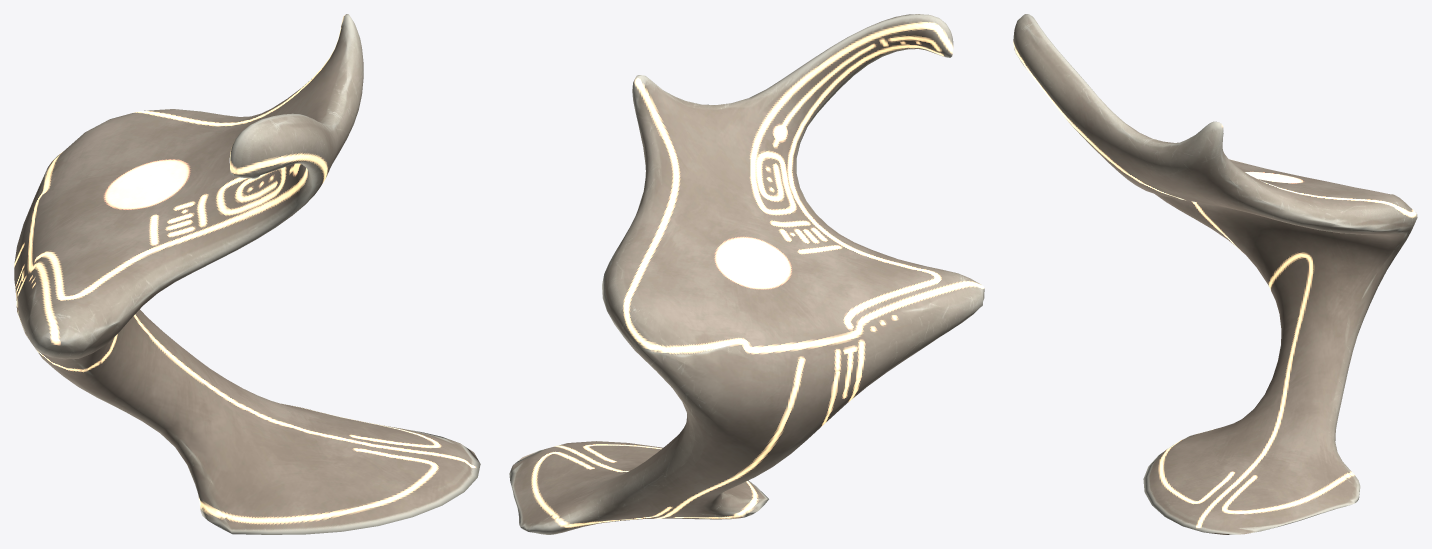
File: lapa2.glb
3 views of the same model, side by side, from view 1: azimuth 30°, elevation 25°; view 2: azimuth 150°, elevation 25°; view 3: azimuth 270°, elevation 25° (orthographic). The views are drawn at different scales.
Visible parts, largest first — view 1: 2; view 2: 2; view 3: 2.
Boxes of the visible parts, left/top/right/bottom form: 2: left=14, top=14, right=480, bottom=534; 2: left=509, top=14, right=984, bottom=534; 2: left=1013, top=14, right=1417, bottom=534.
Size of what is drawn, in the model's own units: 3.57 by 3.56 by 3.34.
Materials: 1 (1 with a texture image).
